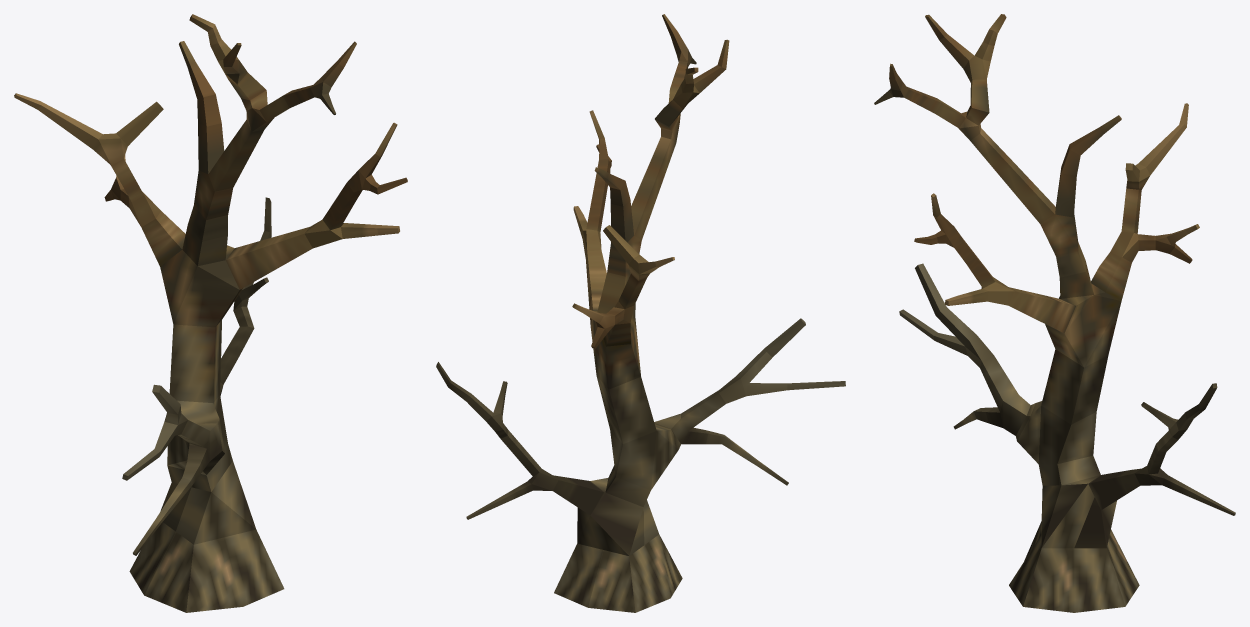
The model's file is Poly_Dead_Tree_01.obj.
3 renders of one model, left to right at view 1: azimuth 30°, elevation 25°; view 2: azimuth 150°, elevation 25°; view 3: azimuth 270°, elevation 25°, orthographic. The views are drawn at different scales.
Parts seen in each view (by area): view 1: Plane.001; view 2: Plane.001; view 3: Plane.001.
Boxes of the visible parts, <box> form: Plane.001: <box>14,14,407,612</box>; Plane.001: <box>436,14,845,612</box>; Plane.001: <box>874,14,1235,612</box>.
Size of the model in its own units: 1.81 by 3.28 by 1.96.
1 material, 1 textured.
